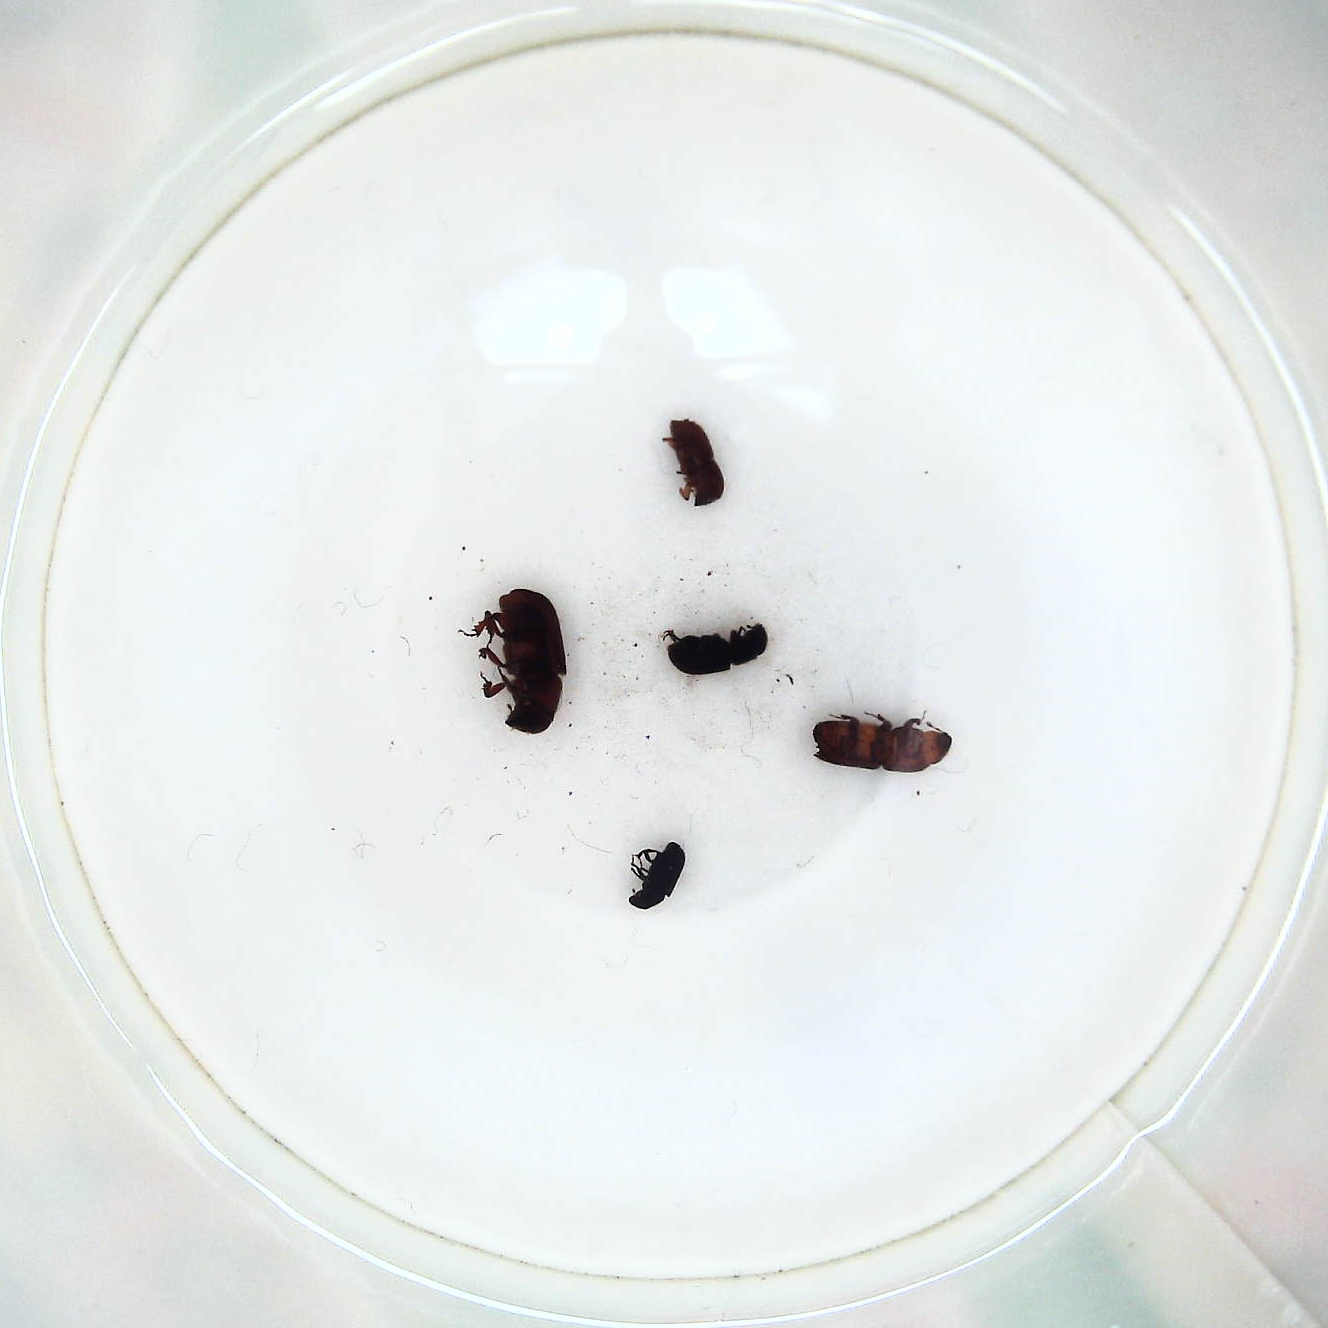Boerner: (810, 707, 961, 777)
Leconte: (466, 587, 574, 739)
armandi: (655, 623, 771, 687)
coleoptera: (621, 838, 691, 916)
linnaeus: (659, 411, 730, 511)
